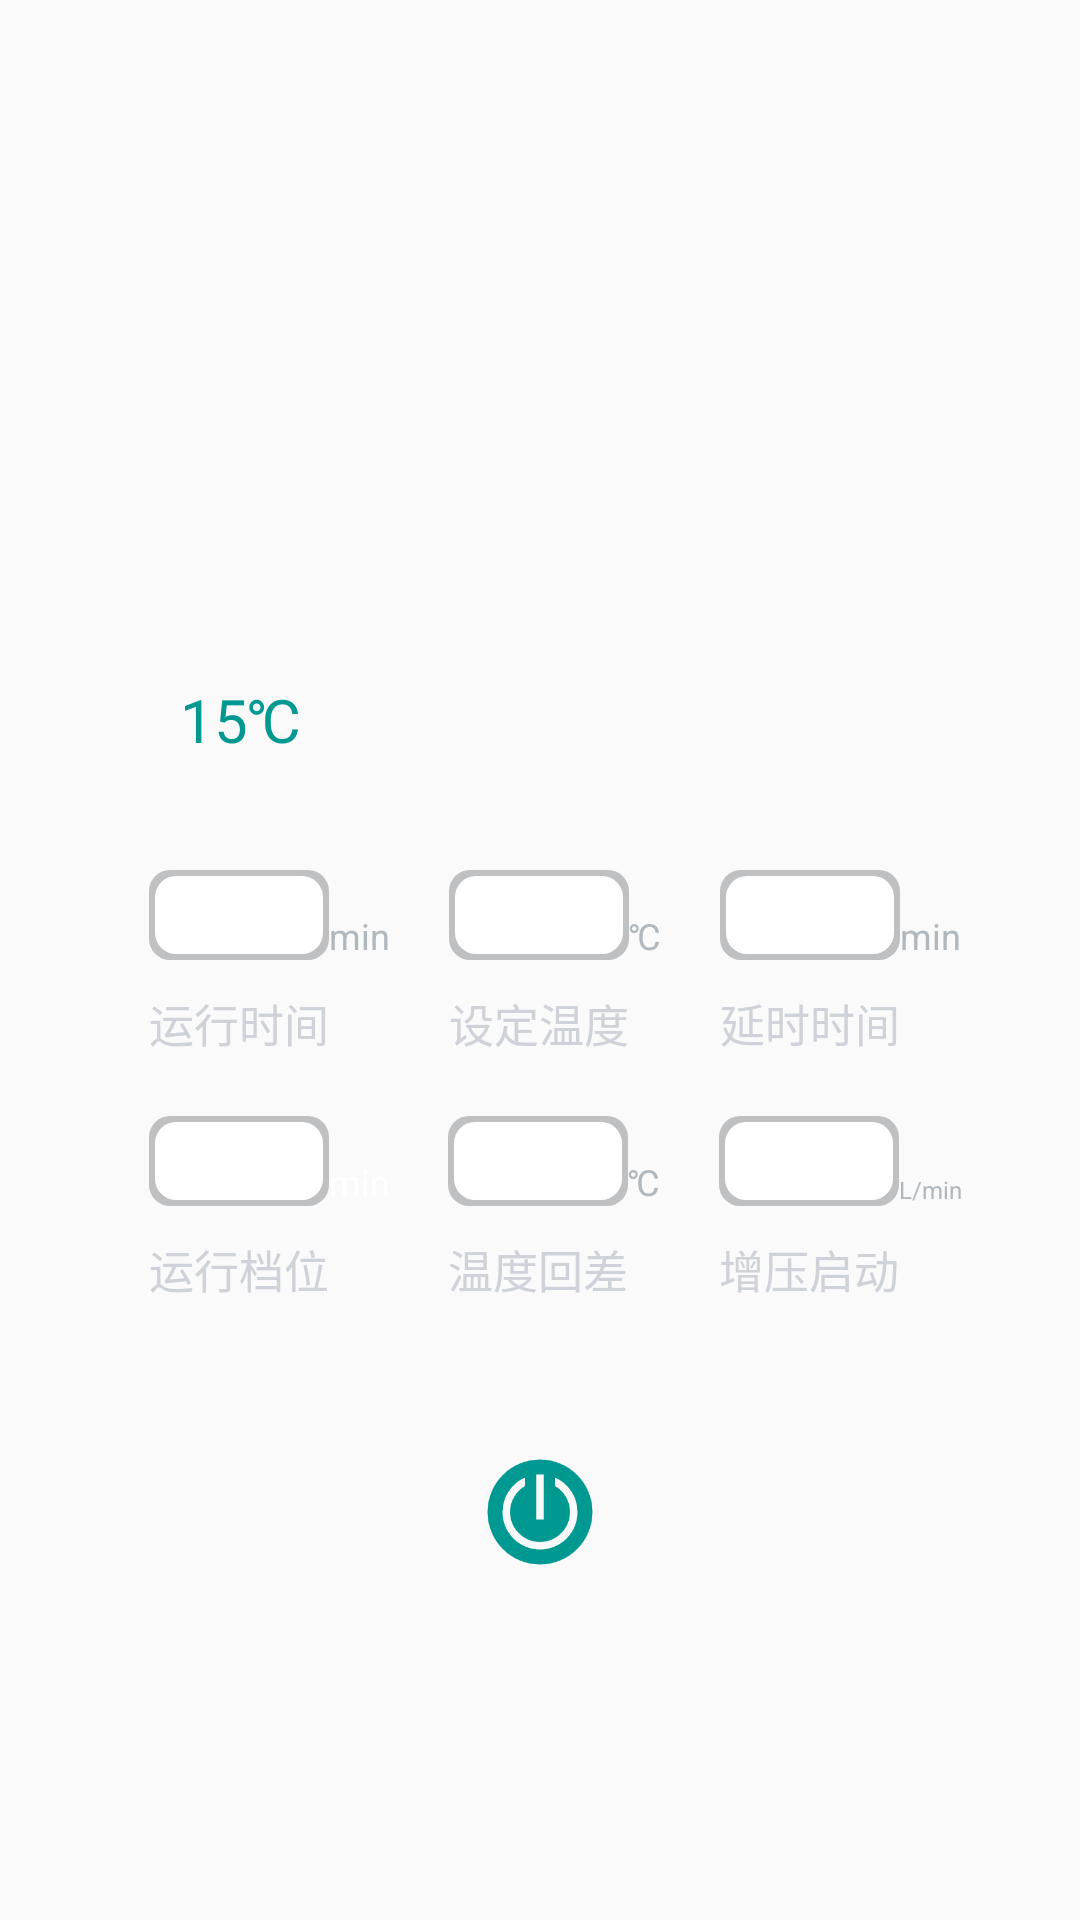

Named icons in this screenshot (1080 x 1920) and their bounding boxes, [x1, y1, x2, y2]:
off: [487, 1459, 593, 1565]
